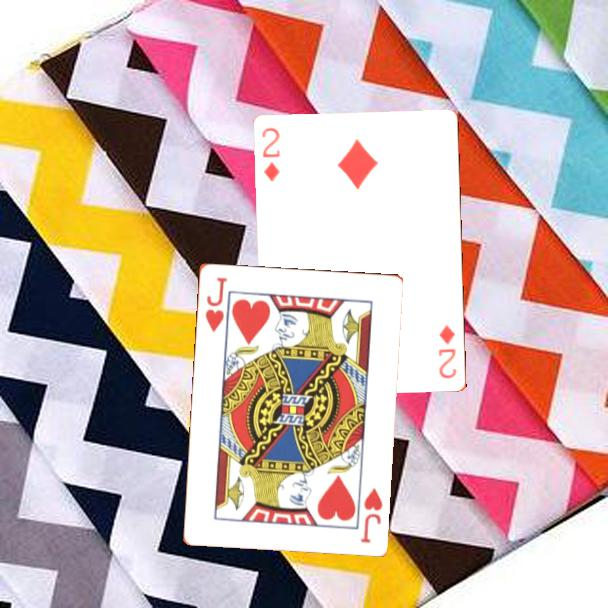d02: (435, 322, 460, 382), (259, 125, 283, 185)
h11: (202, 274, 230, 335), (357, 484, 385, 545)
